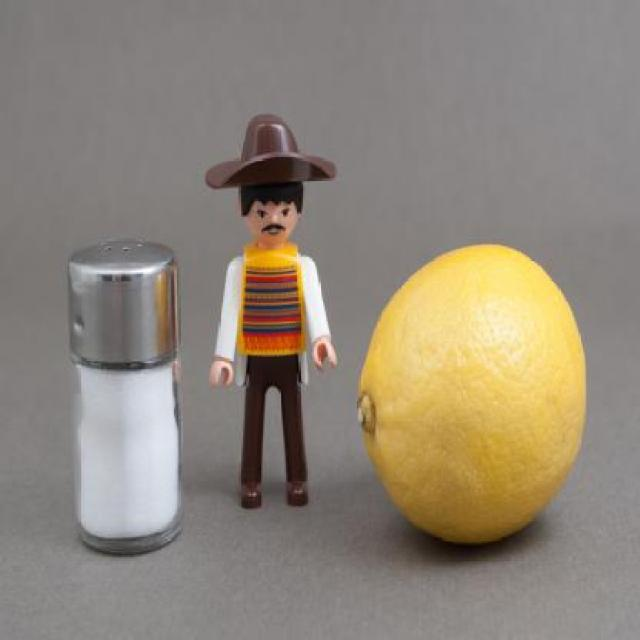Lemon: (358, 236, 602, 553)
